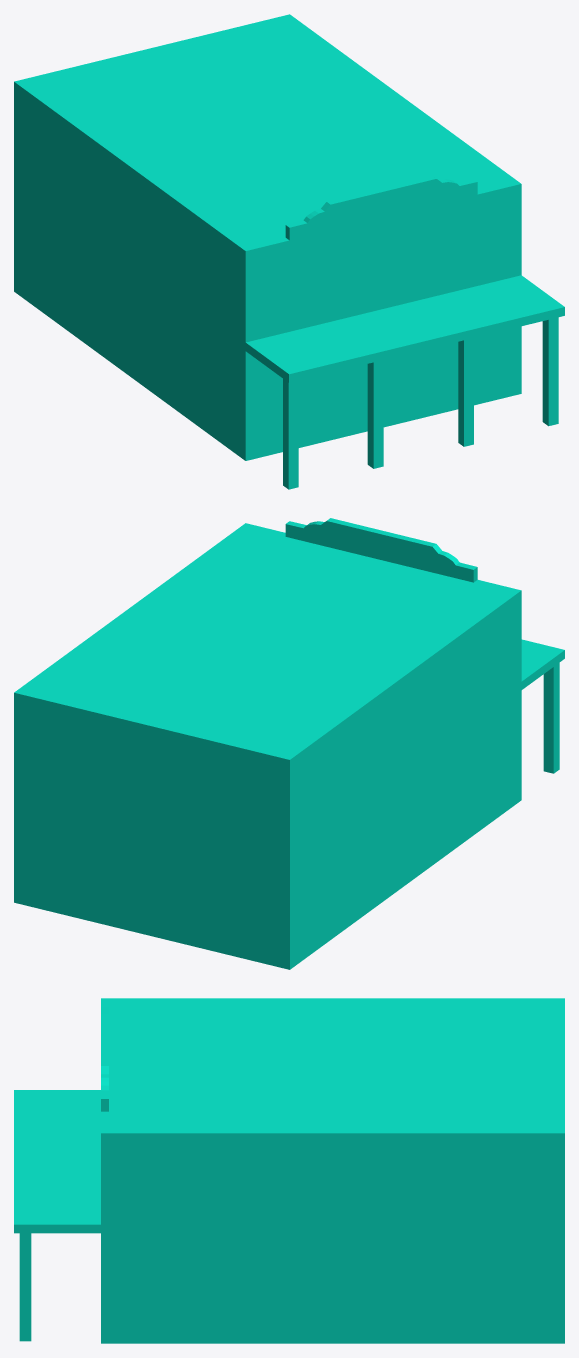
File: Theatre_House_removed_pieces.glb
The picture shows the model from 3 angles, top to bottom: view 1: azimuth 30°, elevation 25°; view 2: azimuth 150°, elevation 25°; view 3: azimuth 270°, elevation 25°; orthographic projection.
Visible parts, largest first — view 1: Full_Theatre_House-col; view 2: Full_Theatre_House-col; view 3: Full_Theatre_House-col.
Boxes of the visible parts, left/top/right/bottom form: Full_Theatre_House-col: left=14, top=14, right=564, bottom=489; Full_Theatre_House-col: left=14, top=518, right=564, bottom=969; Full_Theatre_House-col: left=14, top=998, right=564, bottom=1343.
Size of the model in its own units: 11 by 8.98 by 19.
